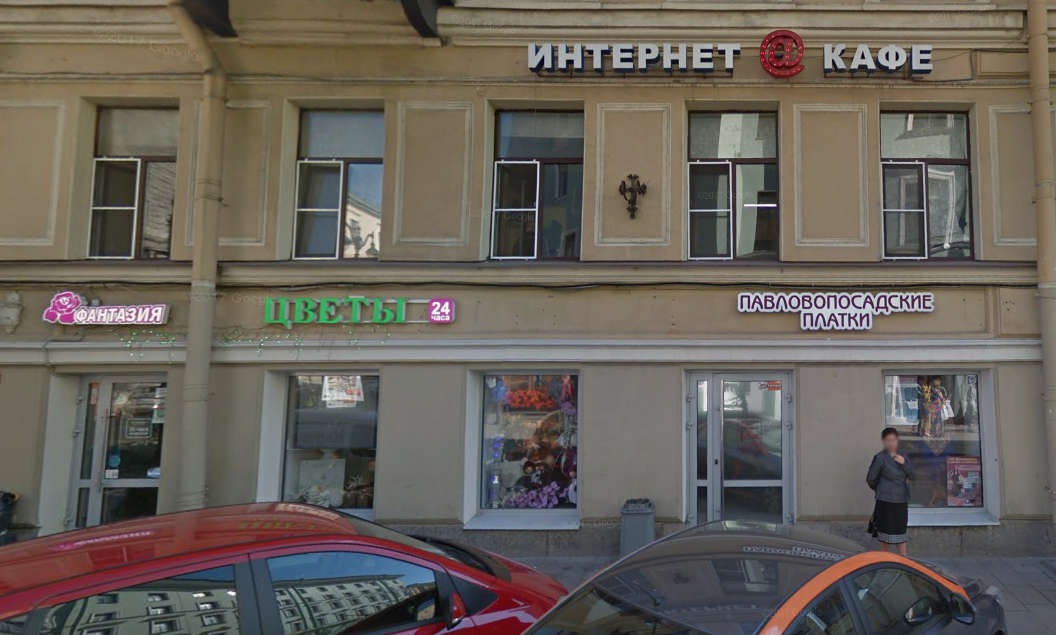door: (688, 367, 795, 519), (880, 369, 989, 515), (74, 375, 164, 526)
signboard: (522, 22, 936, 96), (729, 282, 947, 336), (256, 286, 457, 329), (33, 284, 177, 336)
window: (478, 375, 580, 525), (881, 113, 981, 263), (486, 101, 579, 262), (689, 109, 782, 258), (92, 103, 176, 265), (291, 101, 377, 255), (286, 373, 376, 512)
